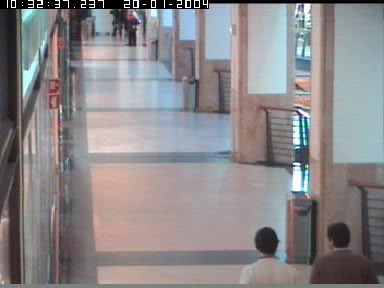person: (308, 222, 380, 284), (239, 226, 301, 284), (126, 10, 139, 46)
